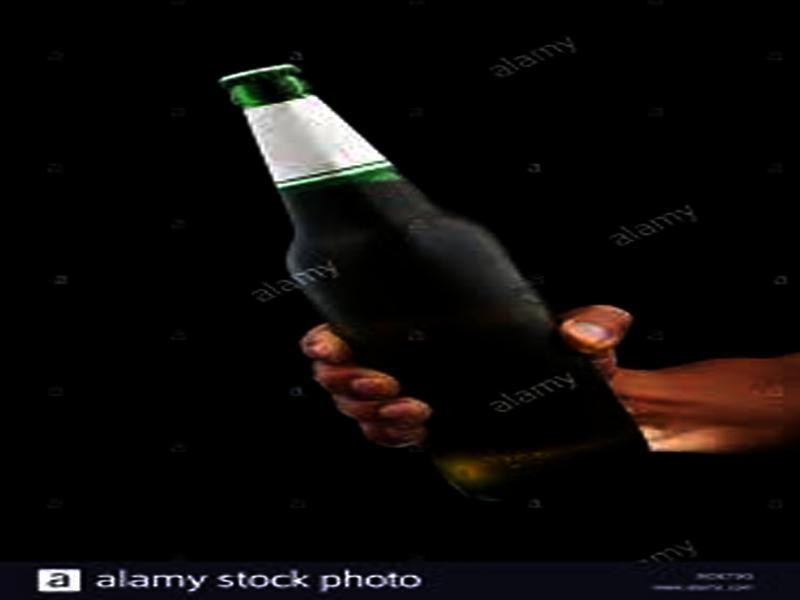Beer: (213, 60, 647, 506)
